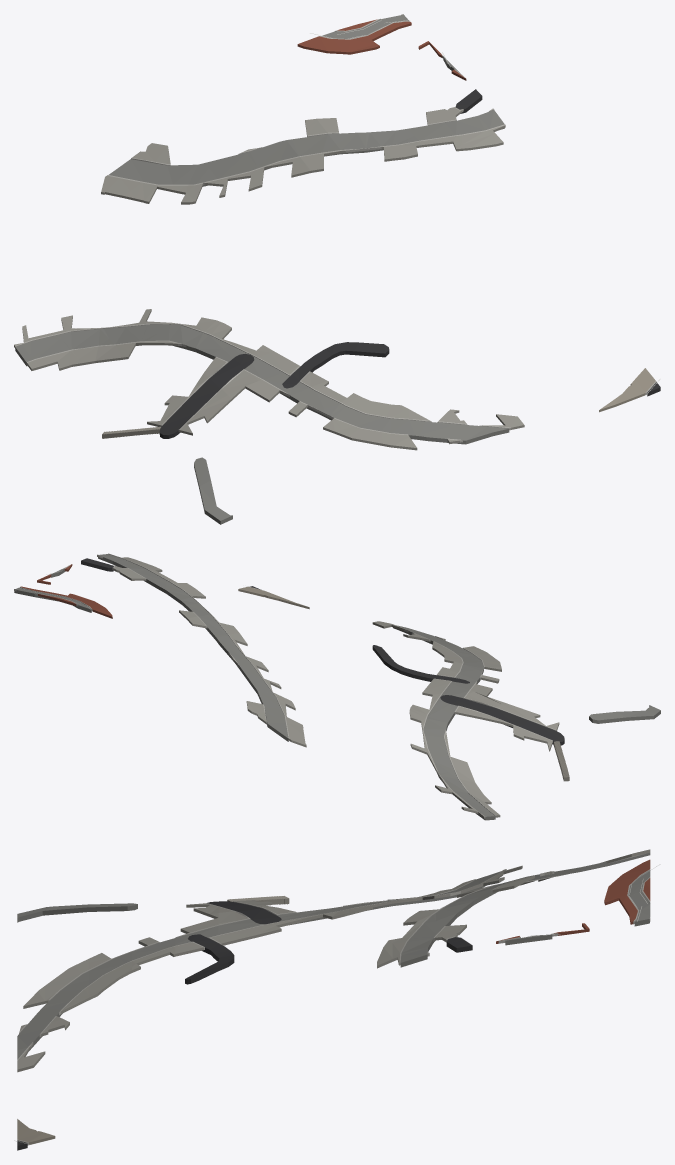
The picture shows the model from 3 angles, top to bottom: view 1: azimuth 30°, elevation 25°; view 2: azimuth 150°, elevation 25°; view 3: azimuth 270°, elevation 25°; orthographic projection. The views are drawn at different scales.
Bounding box in the file's own units: 149 × 67.68 × 149.
